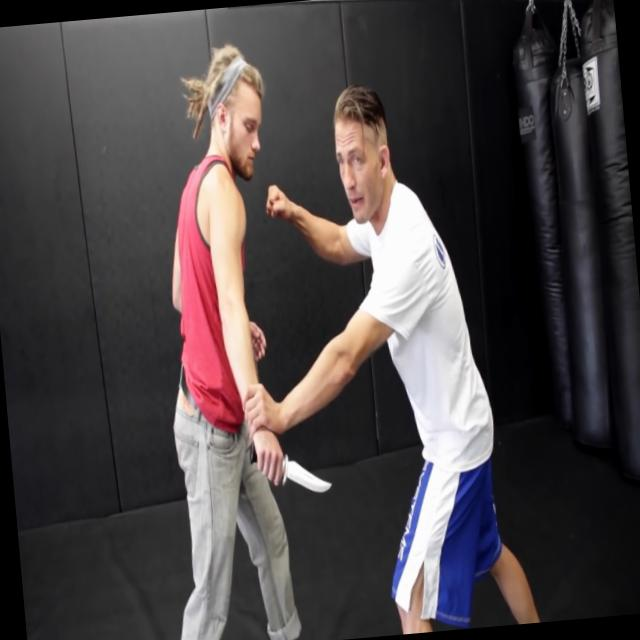knife: (240, 423, 338, 511)
